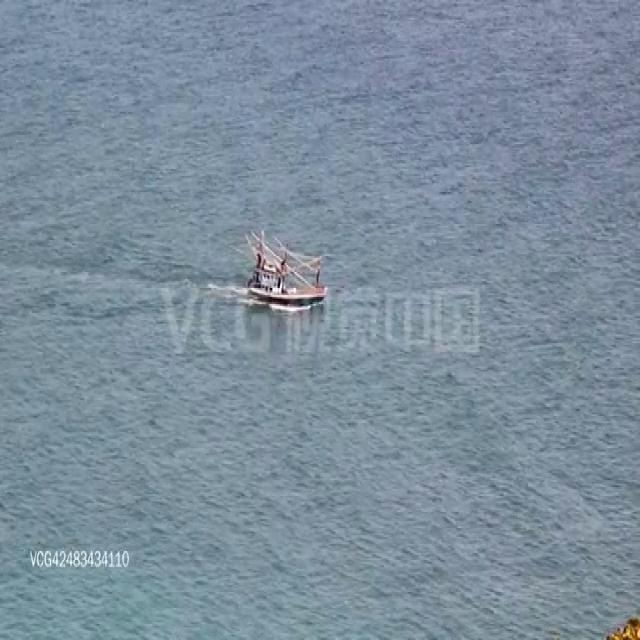fishing boat: (243, 232, 324, 308)
